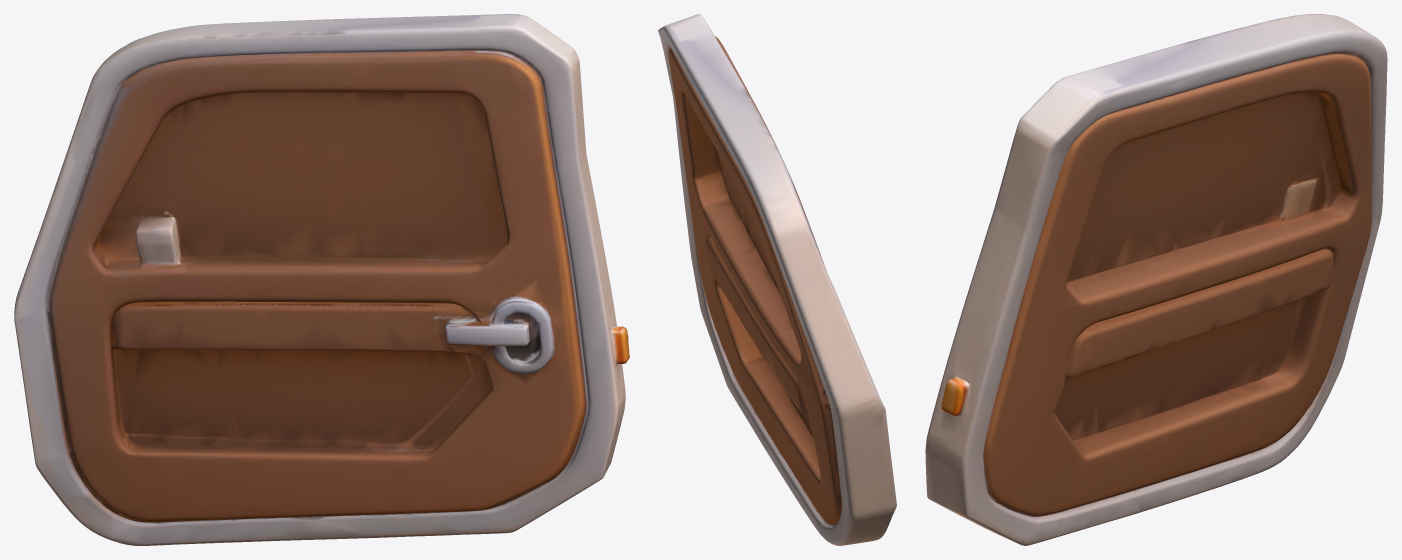
The model's file is car_door.fbx.
The picture shows the model from 3 angles, left to right: view 1: azimuth 30°, elevation 25°; view 2: azimuth 150°, elevation 25°; view 3: azimuth 270°, elevation 25°; orthographic projection. The views are drawn at different scales.
Parts seen in each view (by area): view 1: car_door; view 2: car_door; view 3: car_door.
Boxes of the visible parts, <box> form: car_door: <box>14,14,629,545</box>; car_door: <box>658,14,896,545</box>; car_door: <box>925,14,1387,545</box>.
Size of the model in its own units: 46.3 by 53.19 by 43.13.
Materials: 1 (1 with a texture image).
